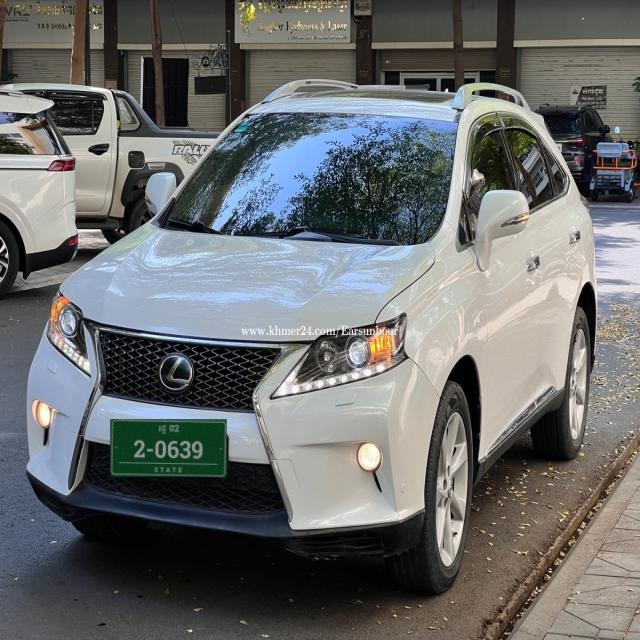Plate Number: (110, 420, 228, 477)
